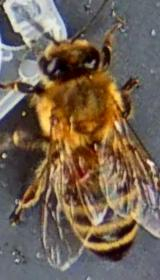varroa_mite: (56, 147, 96, 192)
